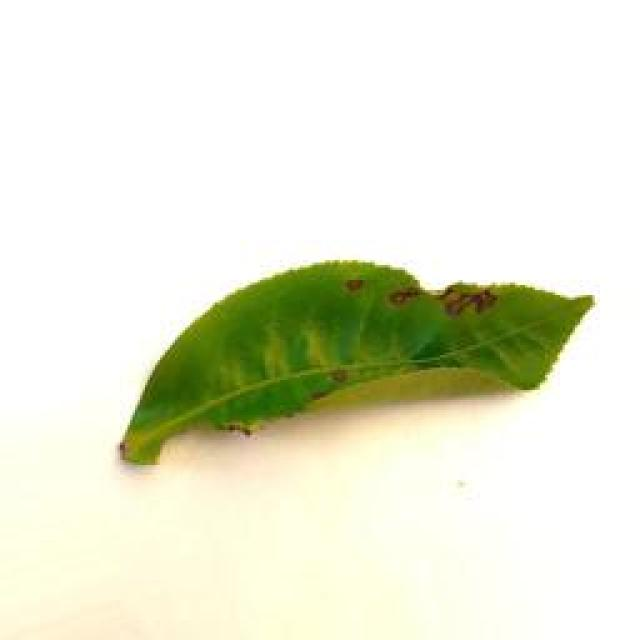Helopeltis: (98, 241, 618, 474)
